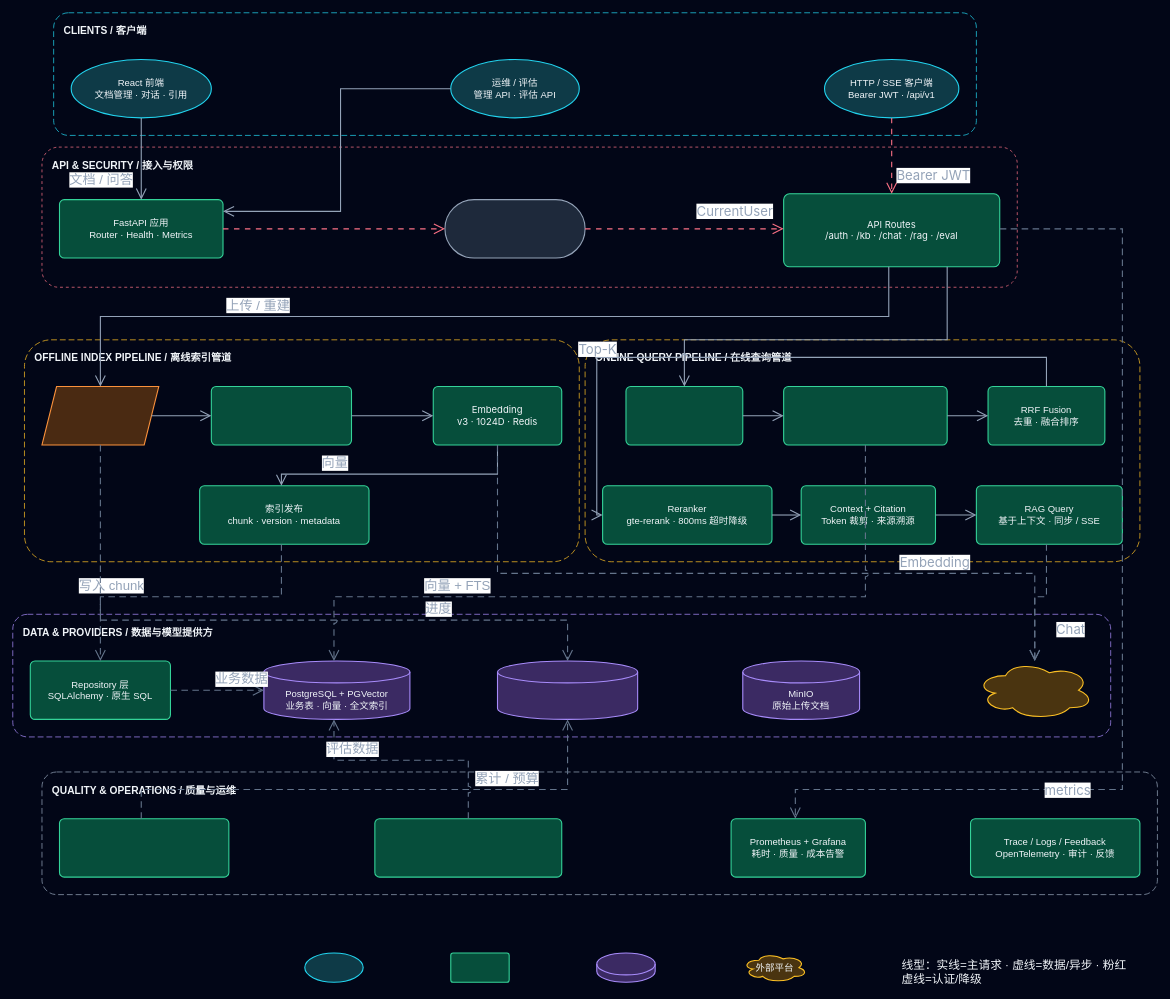
Image size: 1170x999. Some labels were removed from this diagram. The shapes that lost their labels are listed below. From the top down, each one's centre as x and y in pixels, then its label:
the point at 514,228: 身份与权限 JWT · 实时用户 · RBAC
the point at 100,415: 索引任务 重试 · 状态追踪
the point at 281,415: Loader + Chunking PDF · Word · MD · TXT
the point at 684,415: Query Rewrite HyDE · 多路查询
the point at 865,415: Hybrid Retriever 向量 + 全文 · kb_id 硬过滤
the point at 567,690: Redis 7 缓存 · 任务进度 · 预算
the point at 1034,690: 阿里云百炼 Chat · Embedding
the point at 144,847: Token Metrics + Budget 六类 Token · Redis 原子闸门
the point at 468,847: RAGAS Evaluation Hit Rate · MRR · Faithfulness
the point at 333,967: 客户端
the point at 479,967: 服务
the point at 625,967: 存储
